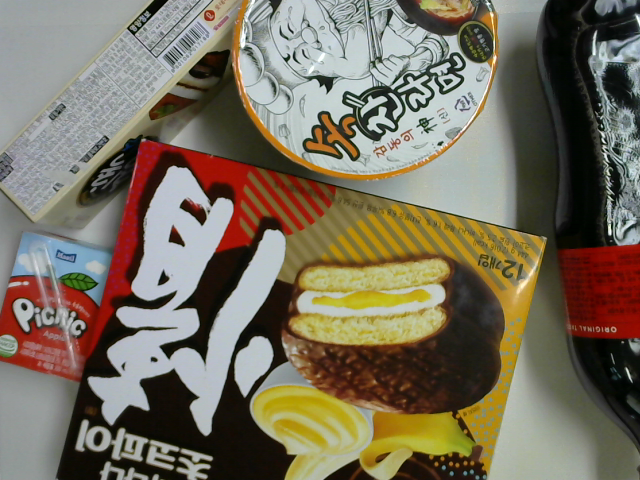Chicchok_Tiramisu: (3, 1, 251, 237)
Choco_Pie_Banana: (52, 136, 548, 480)
Coca_Cola_1.5L: (535, 1, 639, 477)
Hejangchan: (229, 1, 500, 183)
Picnic_Apple: (1, 226, 119, 386)
